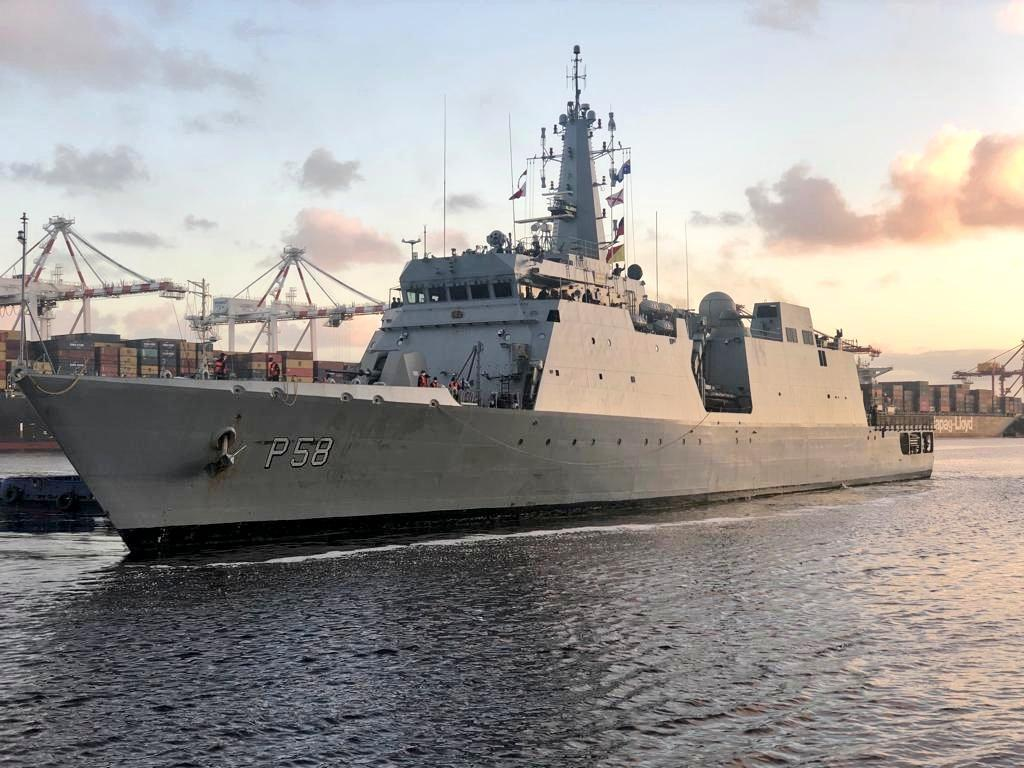Warship: (15, 49, 939, 582)
